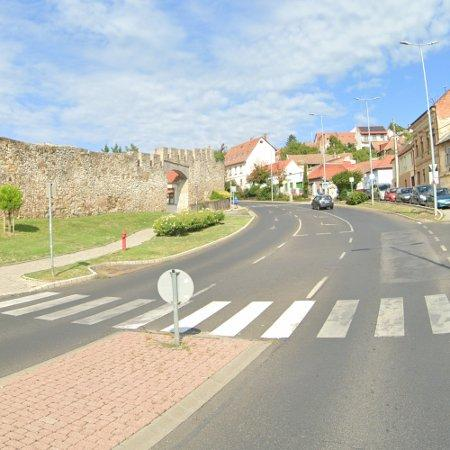crosswalks: (0, 290, 450, 335)
